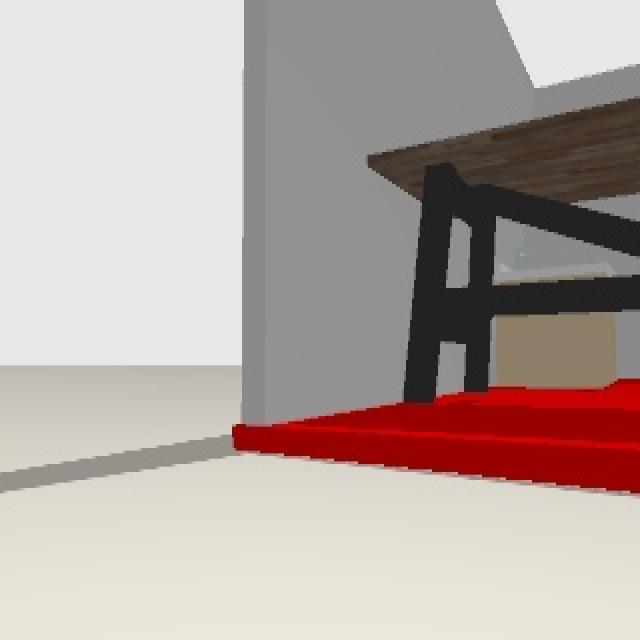dining: (368, 93, 640, 400)
